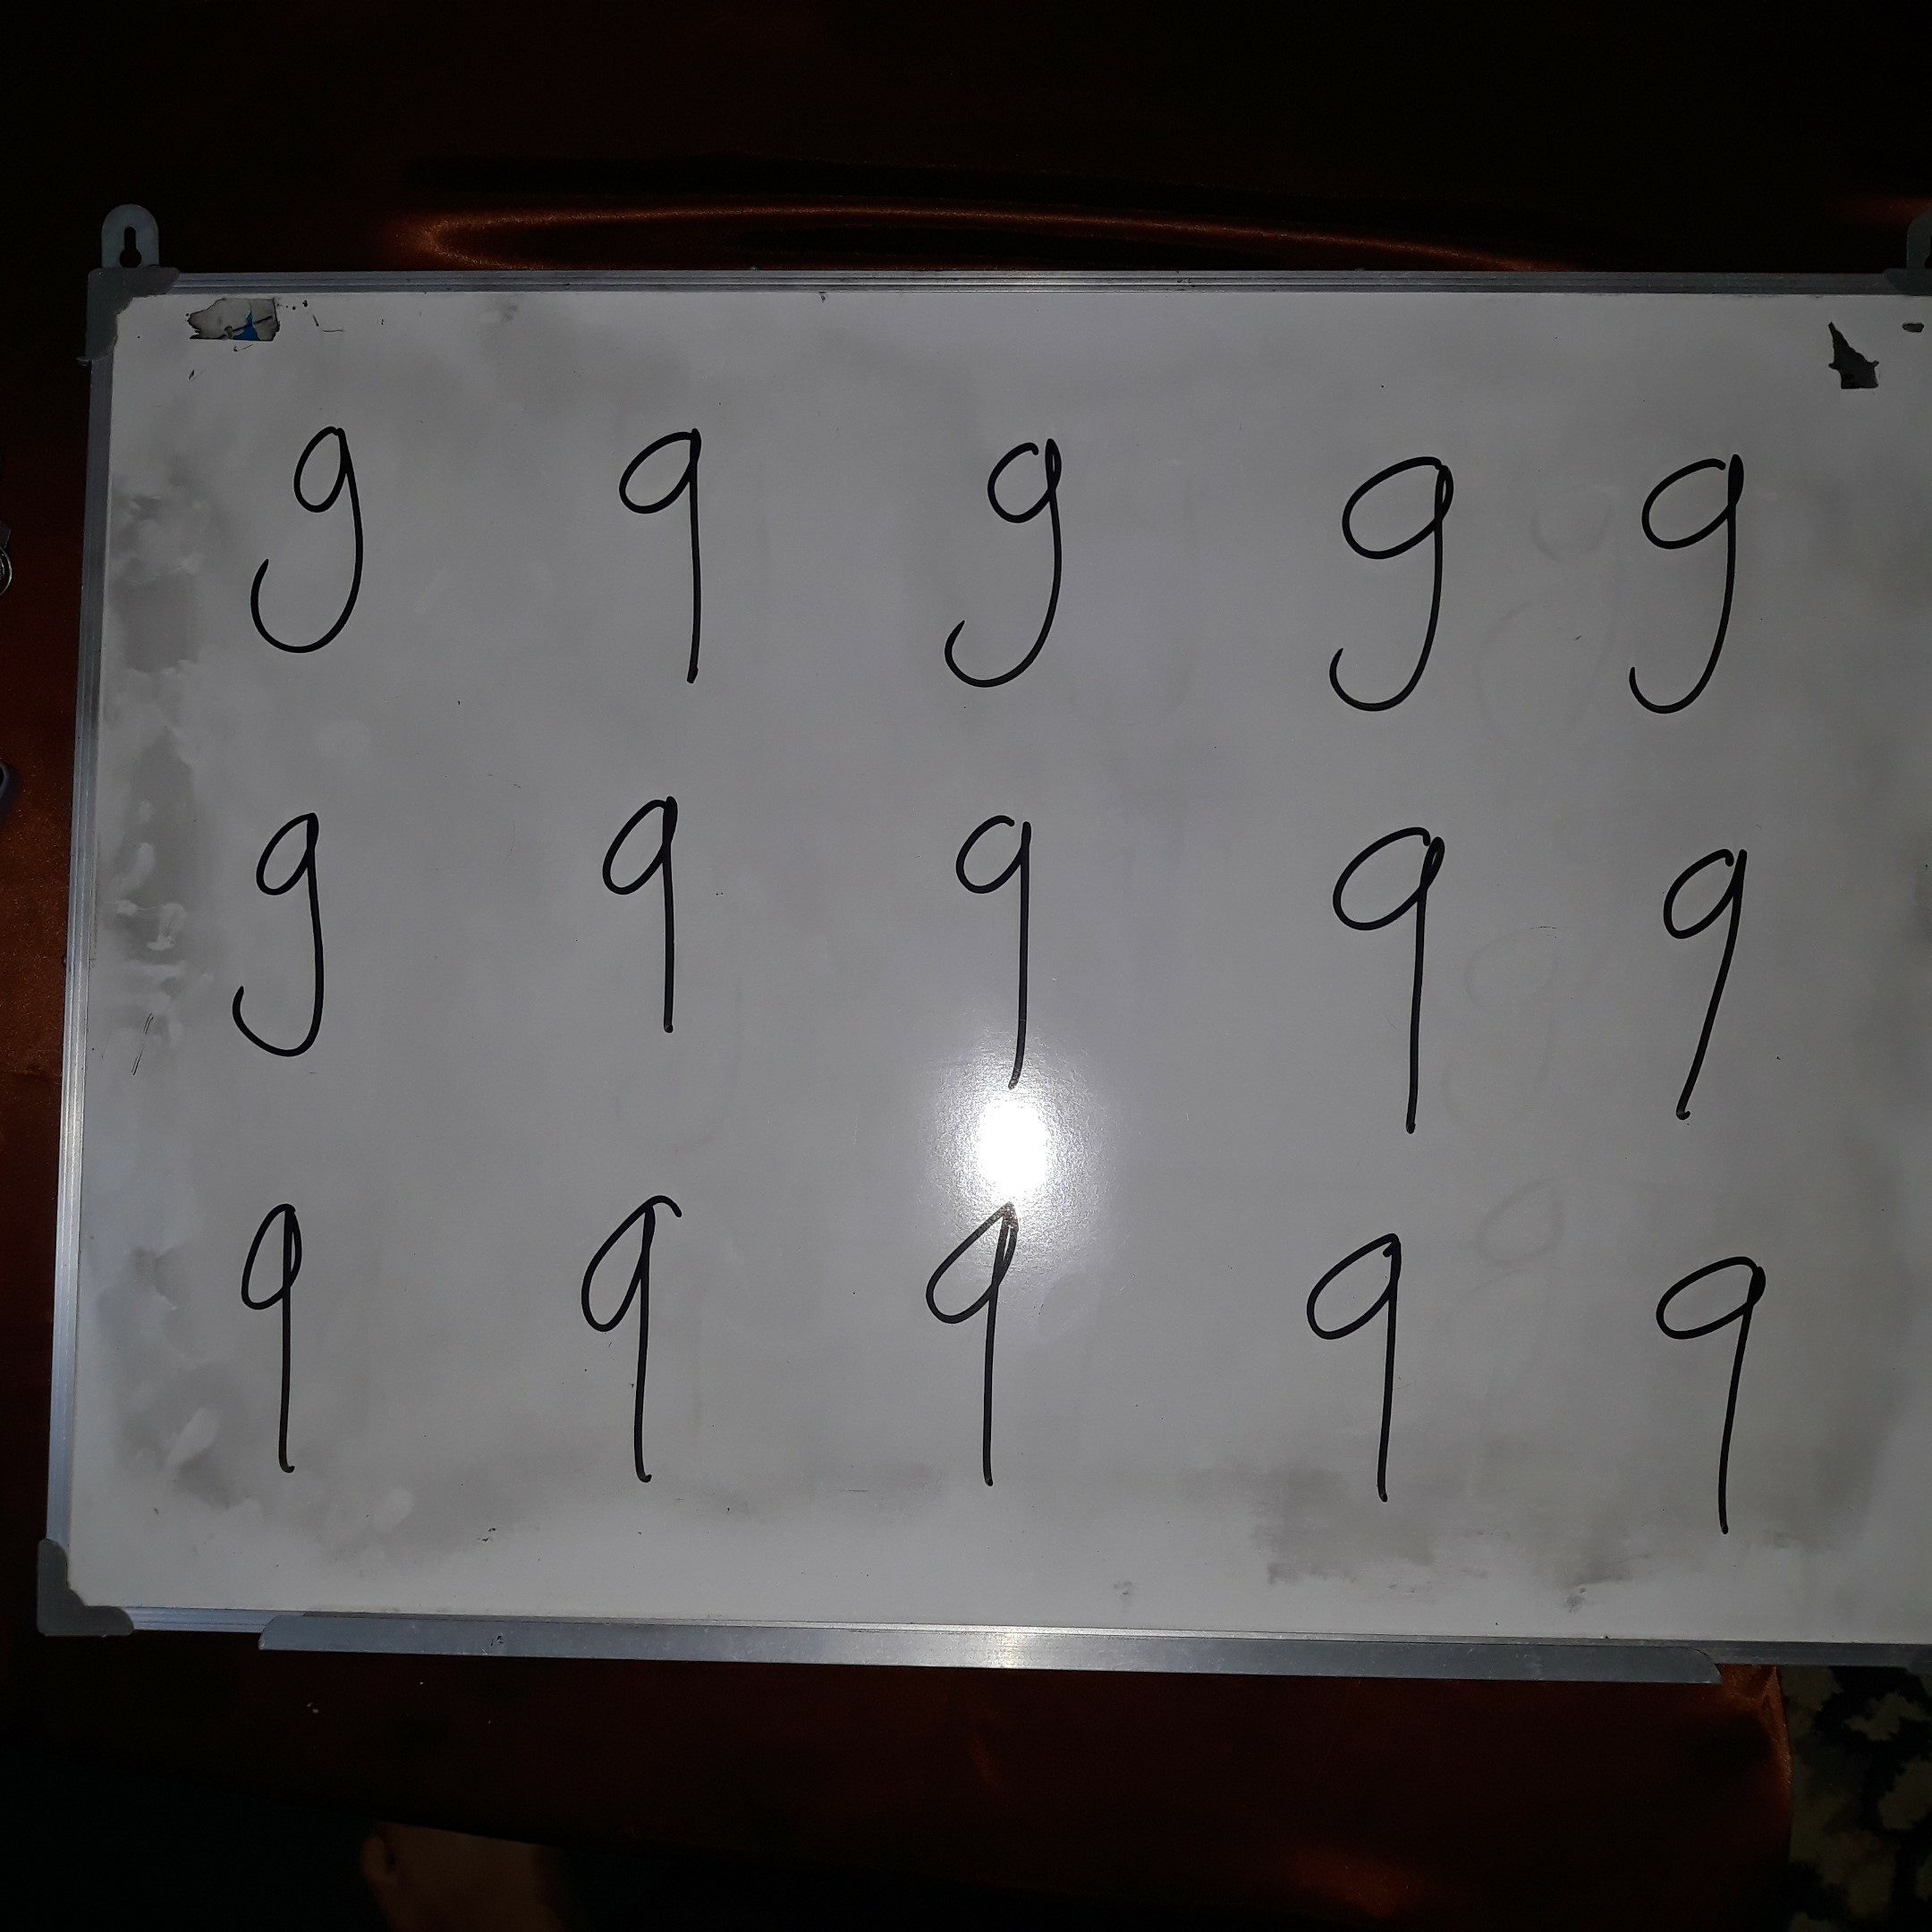num9: (1316, 809, 1467, 1143), (563, 1179, 710, 1501), (1623, 830, 1776, 1126), (1315, 434, 1463, 724), (1646, 1233, 1780, 1549), (935, 415, 1081, 694), (929, 802, 1059, 1106), (916, 1179, 1038, 1503), (1293, 1225, 1429, 1510), (1617, 439, 1752, 718), (241, 417, 388, 665), (225, 793, 351, 1063), (589, 780, 712, 1046), (608, 422, 724, 696), (220, 1190, 325, 1482)
